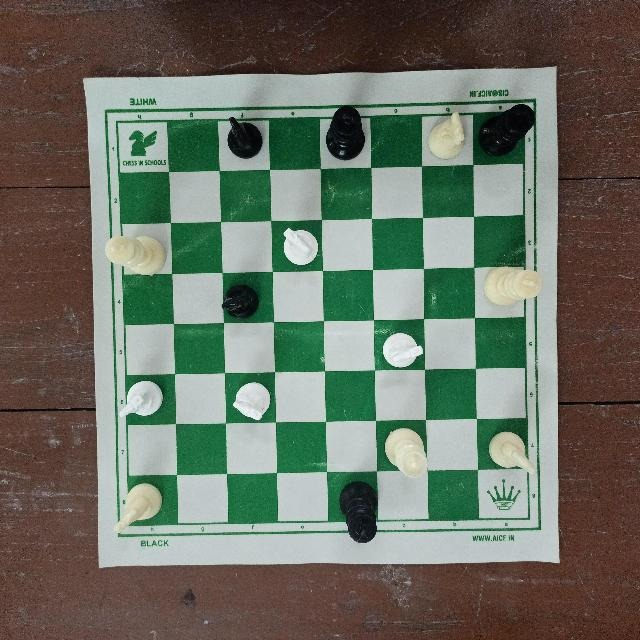black-king: (477, 99, 535, 157), (334, 478, 379, 543), (322, 100, 364, 165)
black-knight: (219, 113, 267, 163), (219, 278, 261, 321)
white-king: (103, 229, 169, 278), (482, 265, 544, 309)
white-knight: (108, 483, 165, 539), (119, 376, 177, 425), (484, 429, 545, 475), (224, 381, 276, 423), (425, 108, 465, 161), (274, 225, 321, 267), (380, 326, 422, 372)
white-queen: (381, 429, 437, 481)
